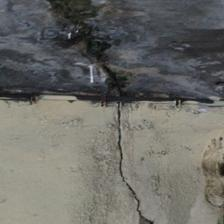Crack: (0, 16, 98, 72), (21, 40, 133, 88)
